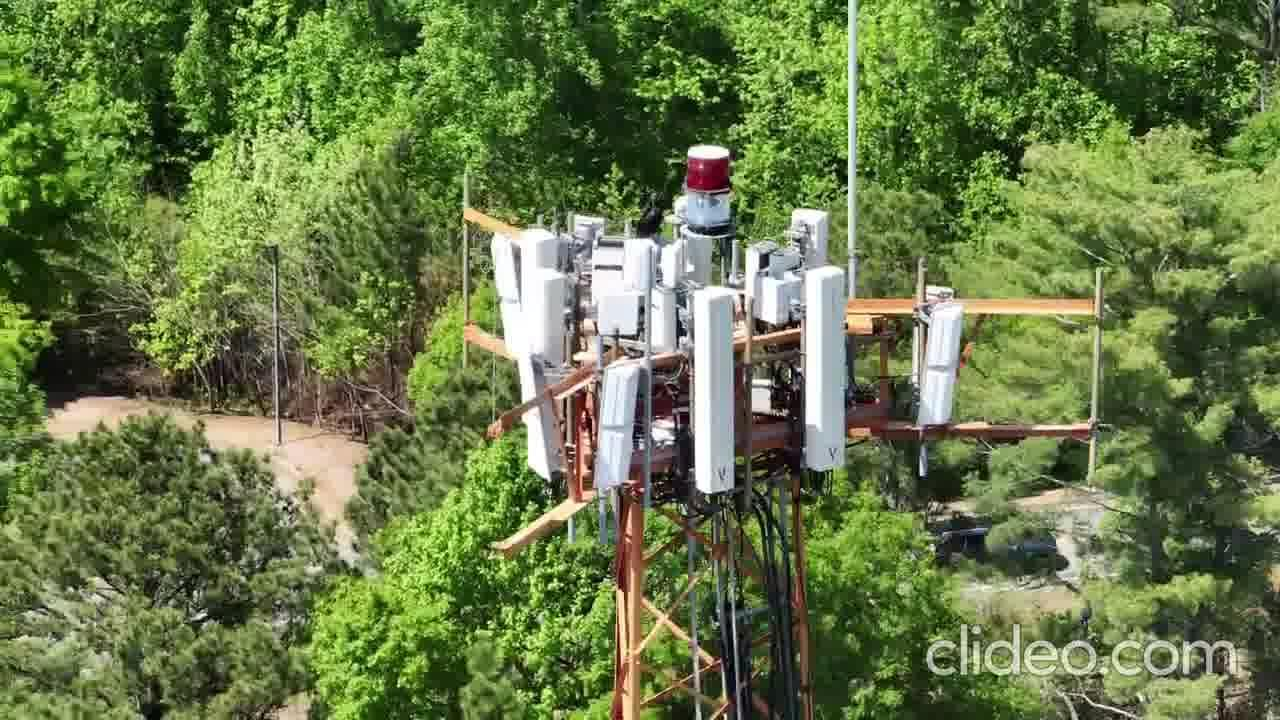antenna: (483, 217, 564, 479), (679, 282, 746, 516), (800, 266, 855, 486), (589, 363, 650, 495), (913, 300, 966, 451), (523, 259, 578, 372)
